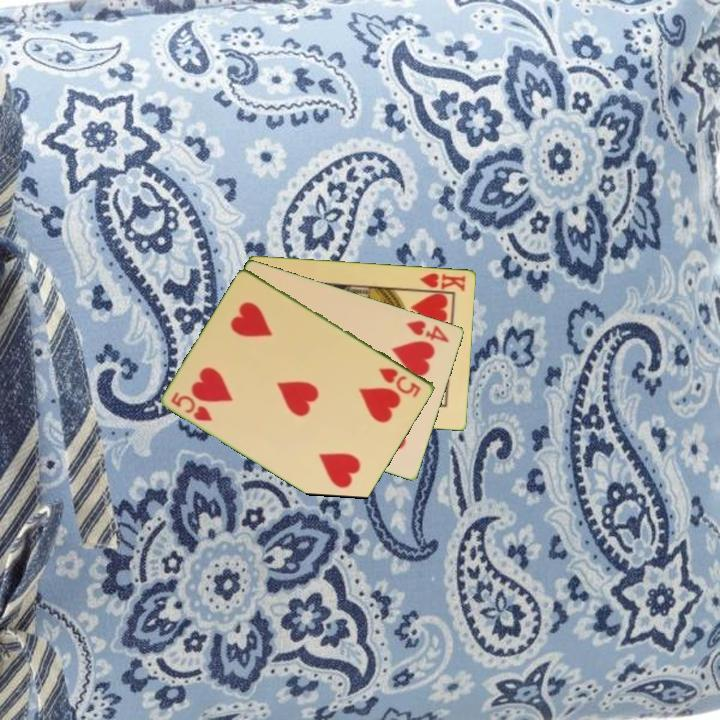4h: (403, 316, 452, 345)
5h: (375, 364, 424, 401), (168, 388, 216, 424)
Kh: (413, 269, 469, 294)
